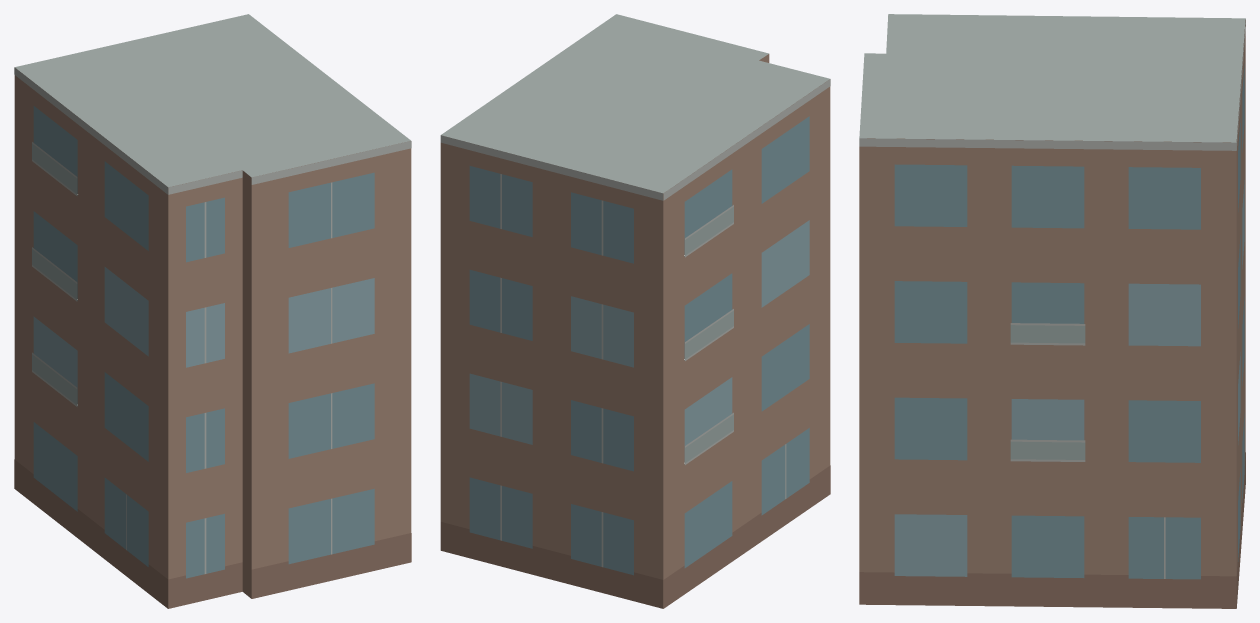
File: survey-upis-32599500.glb
3 renders of one model, left to right at view 1: azimuth 30°, elevation 25°; view 2: azimuth 150°, elevation 25°; view 3: azimuth 270°, elevation 25°, orthographic. The views are drawn at different scales.
Parts seen in each view (by area): view 1: survey-upis-32599500.tmp; view 2: survey-upis-32599500.tmp; view 3: survey-upis-32599500.tmp.
Boxes of the visible parts, bbox=[...] form: survey-upis-32599500.tmp: bbox=[14, 14, 411, 608]; survey-upis-32599500.tmp: bbox=[440, 14, 830, 608]; survey-upis-32599500.tmp: bbox=[859, 14, 1245, 608].
Bounding box in the file's own units: 8.05 × 13.6 × 10.22.
